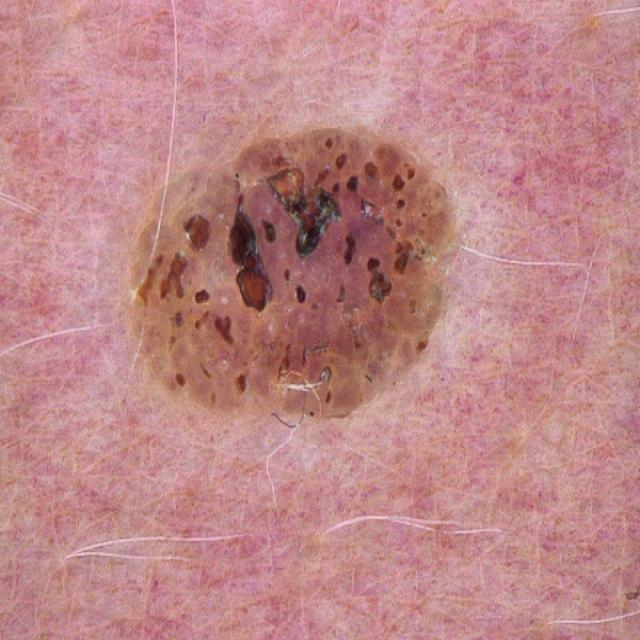Benign-Keratosis-like-Lesions-BKL-: (132, 128, 458, 417)
